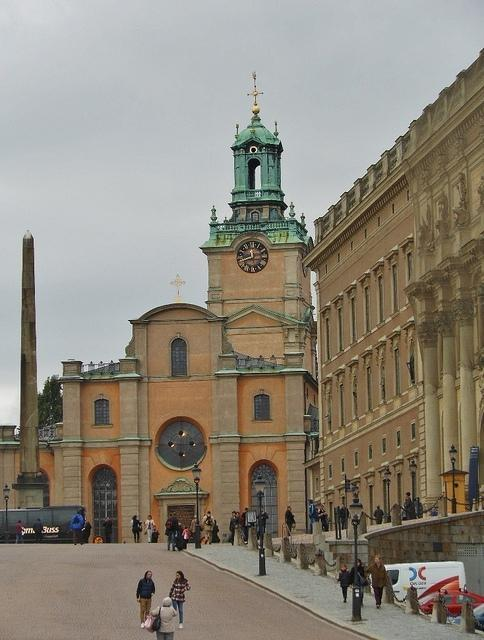car: (420, 590, 484, 616)
truck: (382, 558, 465, 602)
